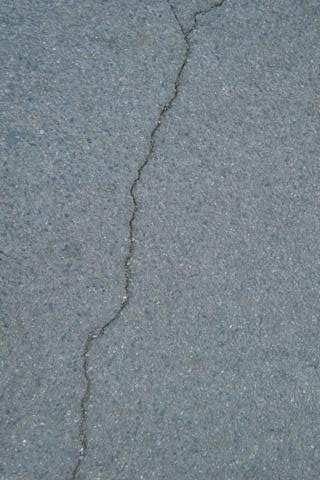A: (69, 3, 225, 480)
